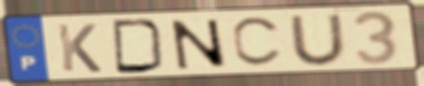3: (351, 9, 404, 67)
C: (229, 15, 284, 69)
D: (110, 18, 169, 75)
K: (55, 23, 105, 75)
N: (168, 18, 231, 71)
U: (286, 12, 350, 68)
